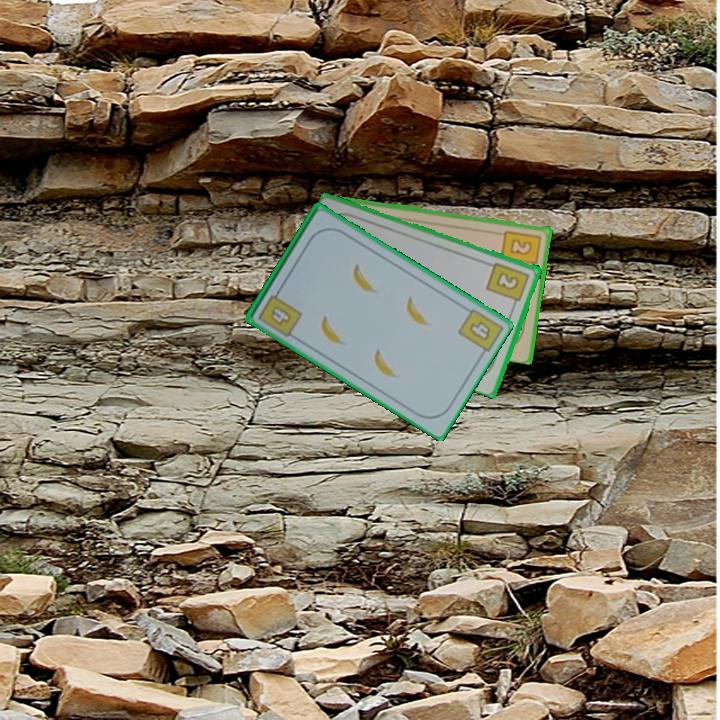2b: (483, 259, 532, 309), (498, 226, 544, 273)
4b: (254, 284, 305, 340), (466, 317, 494, 344)
